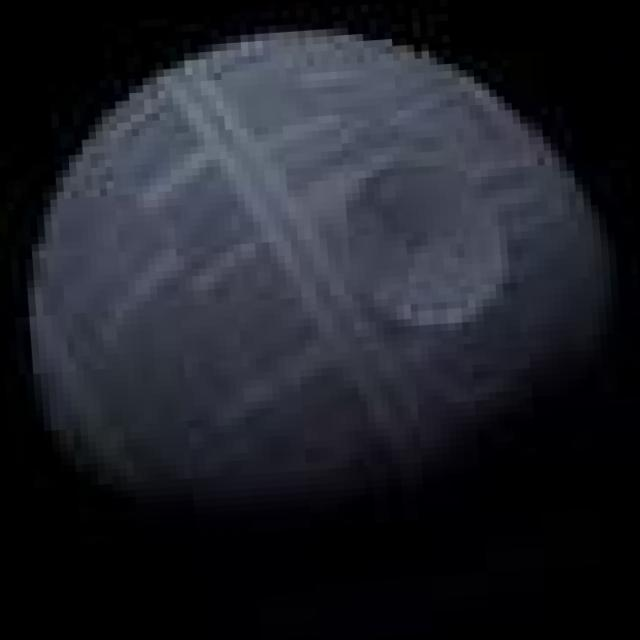Death Star: (1, 1, 638, 538)
